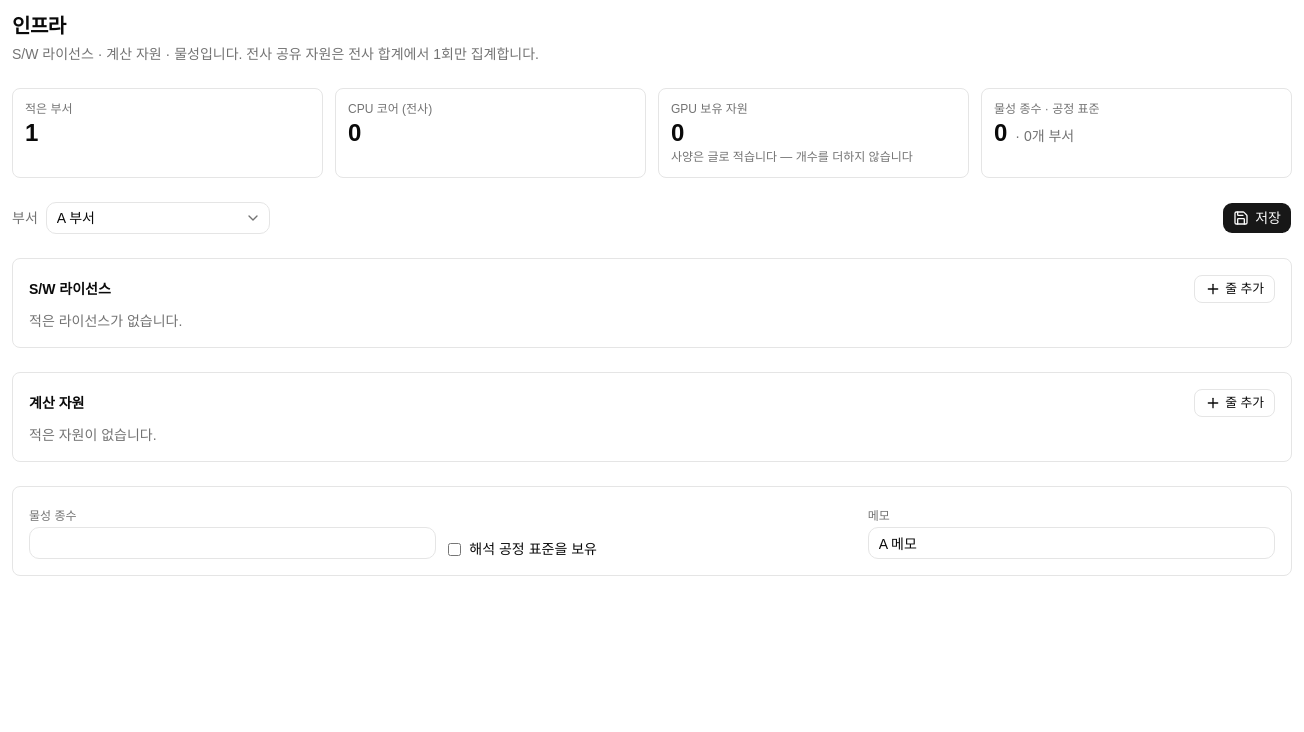
Test case: 인프라 — 부서 바꾸기 › 새 부서를 못 읽으면 앞 부서의 값이 남아 있어도 저장할 수 없다
This screenshot has width=1304, height=732.
Expected: the field showing "A 메모" is shown, [868, 527, 1275, 559]
What coordinates should you click on to do the following:
click the dropdown
I would click on:
 (158, 218)
Its box is [46, 202, 270, 234].
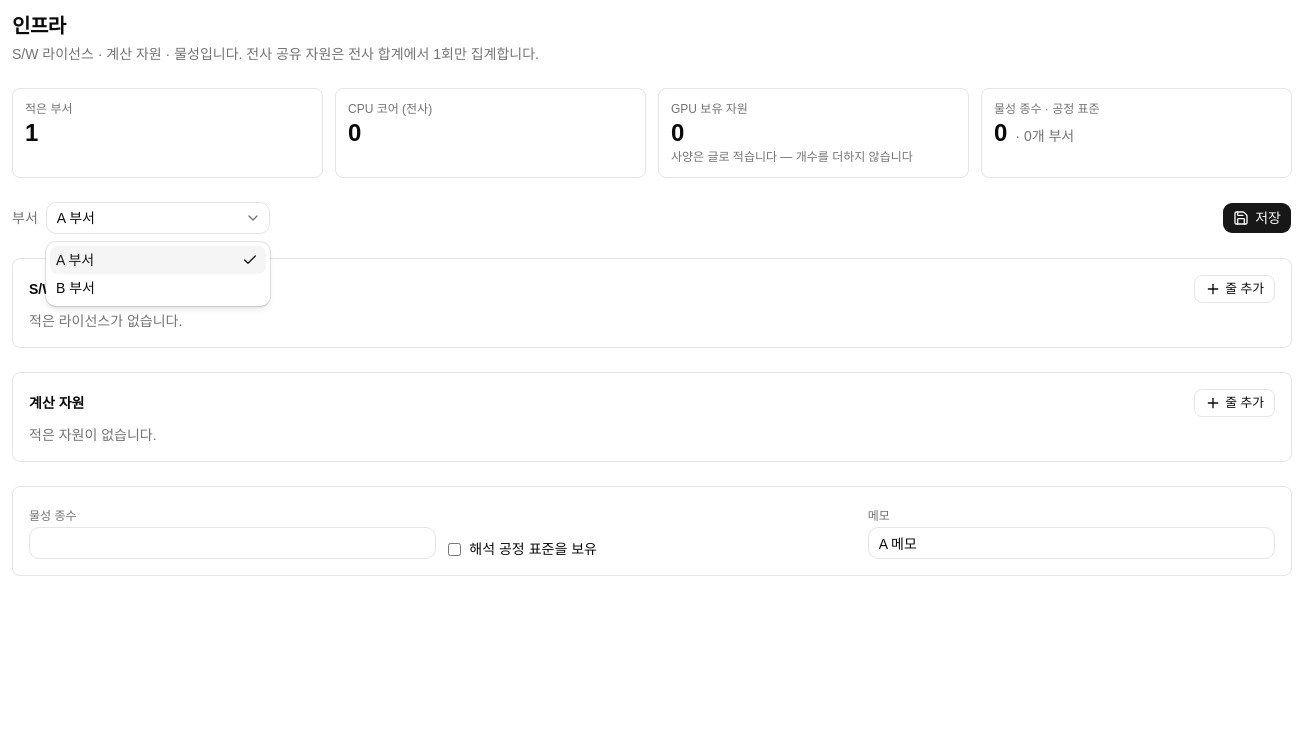
What coordinates should you click on to do the following:
click the option "B 부서"
I would click on:
 (76, 288)
Its box is [56, 280, 95, 296].
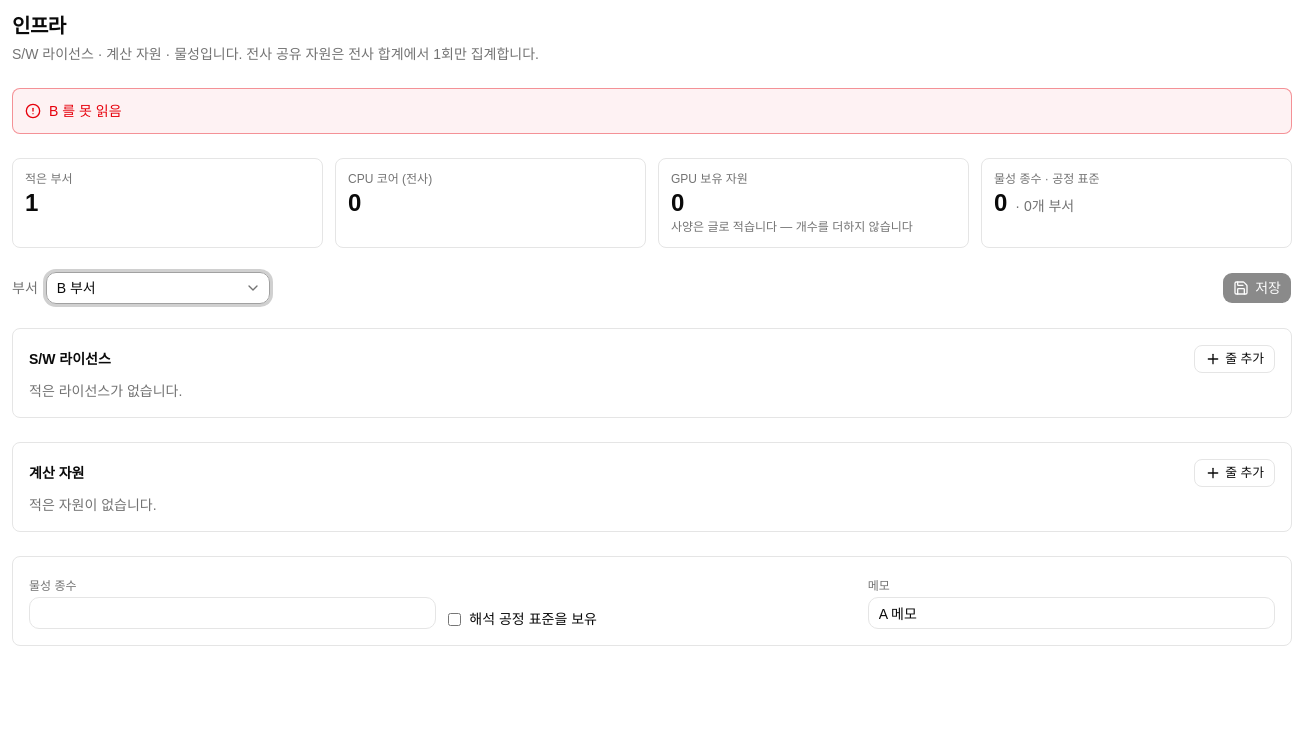
Expected: the text "B 를 못 읽음" is shown, [49, 101, 122, 121]
Expected: the button "저장" is disabled, [1222, 272, 1292, 304]
